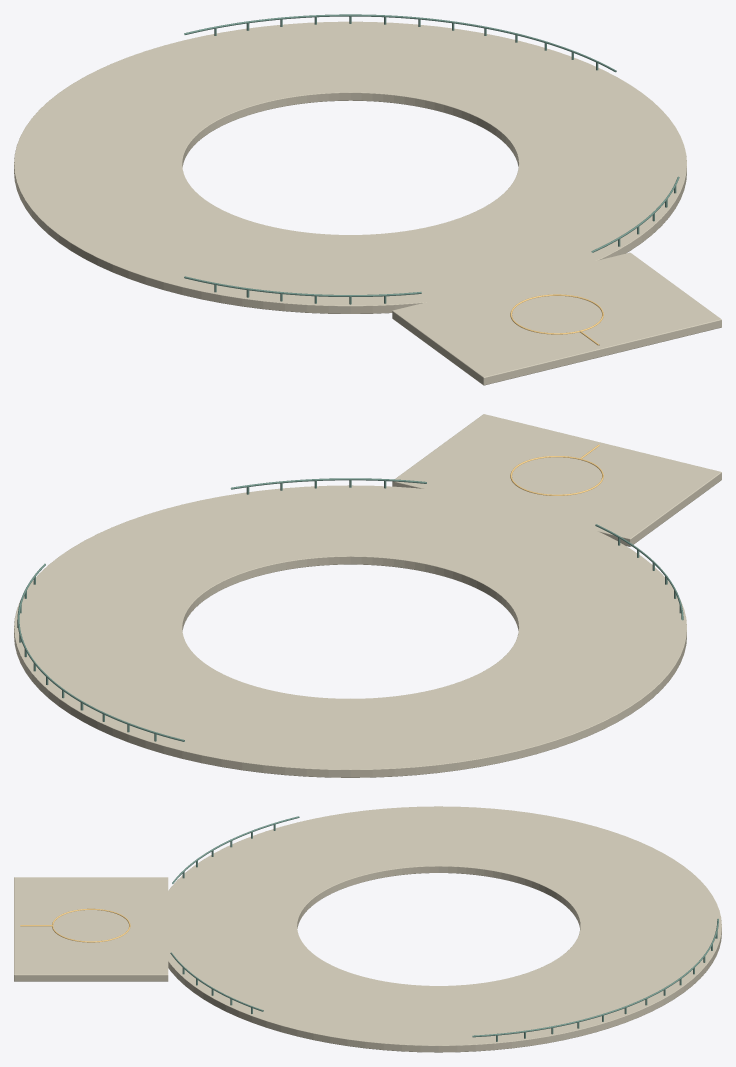
Rendered from break_platform.glb.
The picture shows the model from 3 angles, top to bottom: view 1: azimuth 30°, elevation 25°; view 2: azimuth 150°, elevation 25°; view 3: azimuth 270°, elevation 25°; orthographic projection. The views are drawn at different scales.
Visible parts, largest first — view 1: break_platform; view 2: break_platform; view 3: break_platform.
Boxes of the visible parts, box(x1,y1,x2,y2) form: break_platform: box(14, 14, 721, 385); break_platform: box(14, 414, 721, 777); break_platform: box(14, 806, 721, 1052).
Bounding box in the file's own units: 88 × 2.47 × 110.
